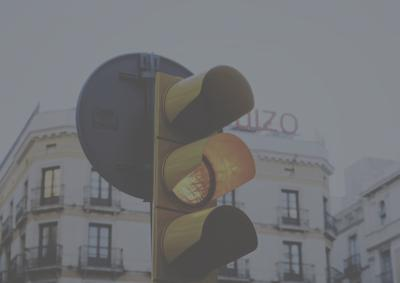International Road Signal Light: (139, 62, 264, 283)
